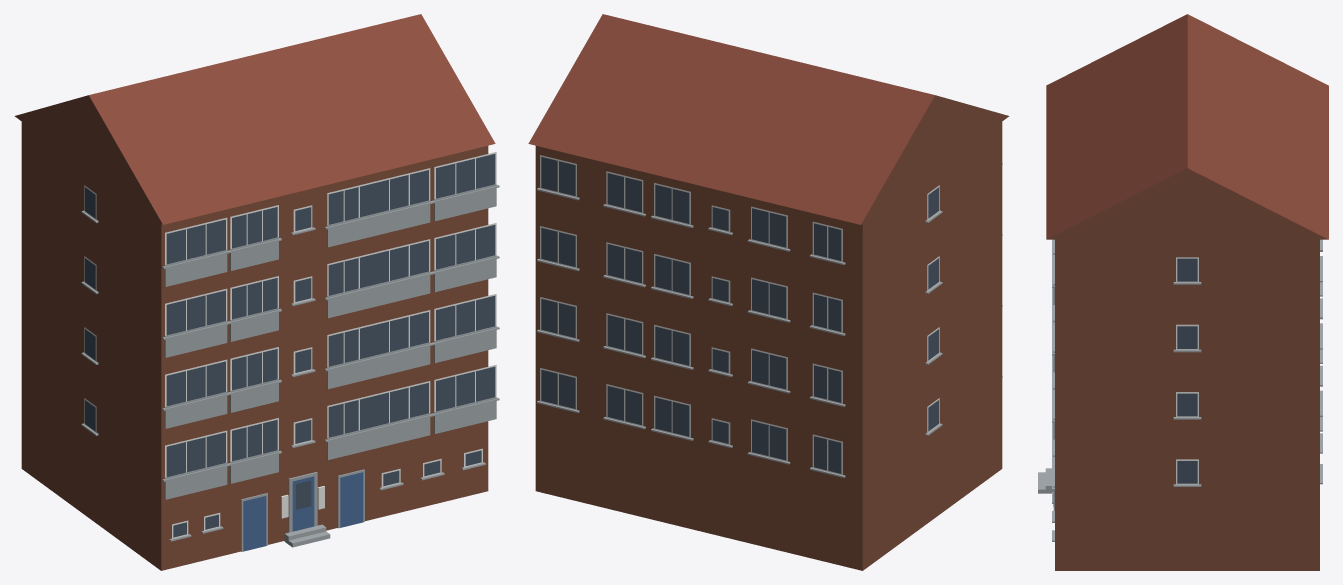
File: nw-portiek-brick-pitched__clad-panel__5__gable__long__solid.glb
3 views of the same model, side by side, from view 1: azimuth 30°, elevation 25°; view 2: azimuth 150°, elevation 25°; view 3: azimuth 270°, elevation 25° (orthographic). The views are drawn at different scales.
Visible parts, largest first — view 1: nw-portiek-brick-pitched__clad-panel__5__gable__long__solid; view 2: nw-portiek-brick-pitched__clad-panel__5__gable__long__solid; view 3: nw-portiek-brick-pitched__clad-panel__5__gable__long__solid.
Boxes of the visible parts, x1,y1,x2,y2 form: nw-portiek-brick-pitched__clad-panel__5__gable__long__solid: (14,14,499,570); nw-portiek-brick-pitched__clad-panel__5__gable__long__solid: (528,14,1009,570); nw-portiek-brick-pitched__clad-panel__5__gable__long__solid: (1038,14,1328,570).
Bounding box in the file's own units: 14.86 × 17.79 × 11.6.
